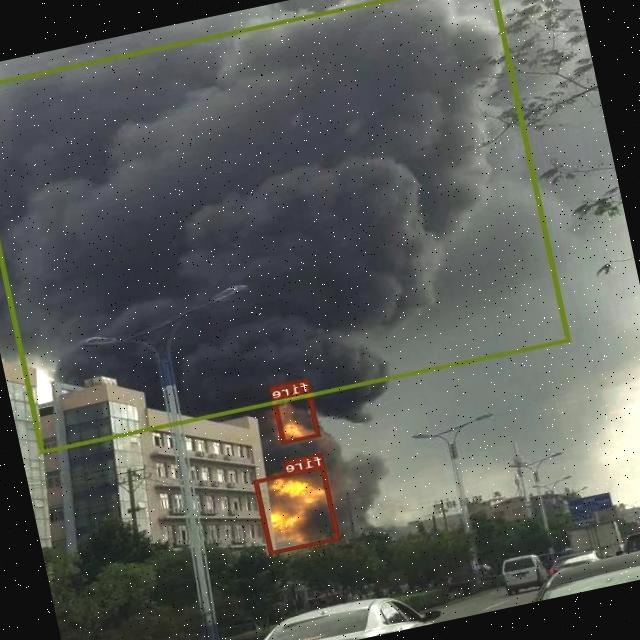fire: (255, 464, 342, 554), (272, 390, 322, 443)
smoke: (0, 0, 571, 452)
